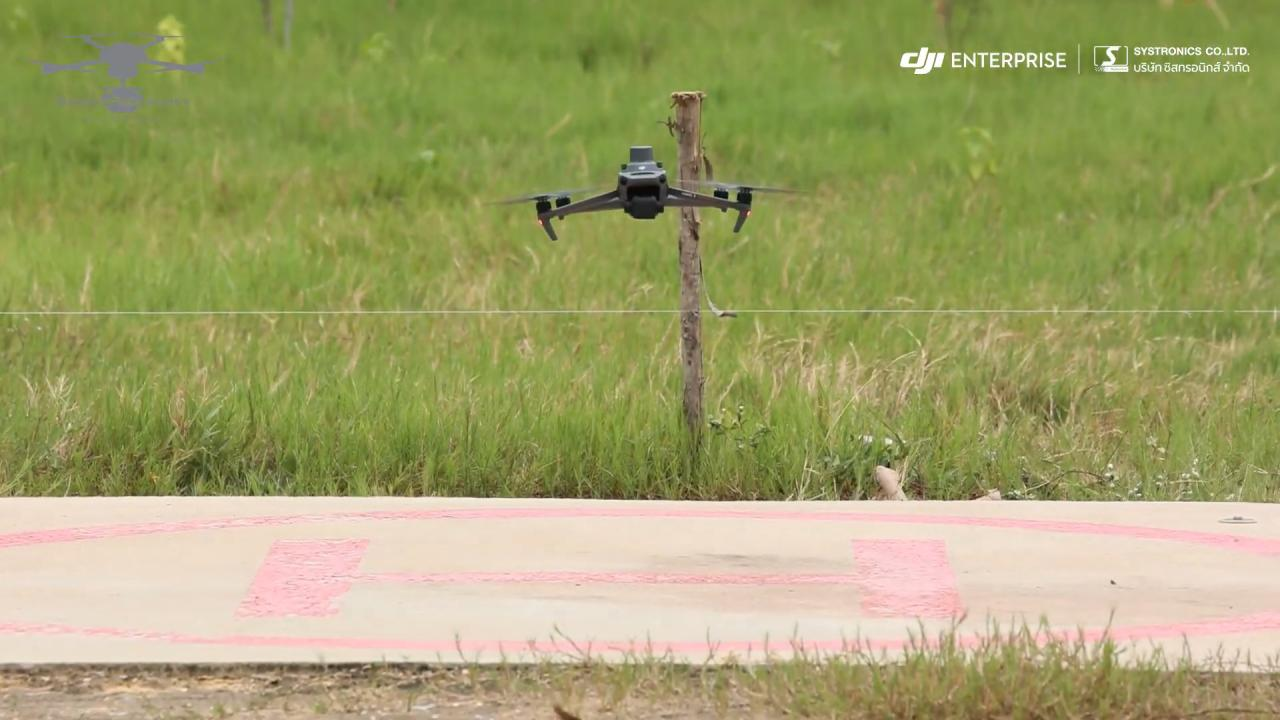Drone: (462, 135, 832, 262)
